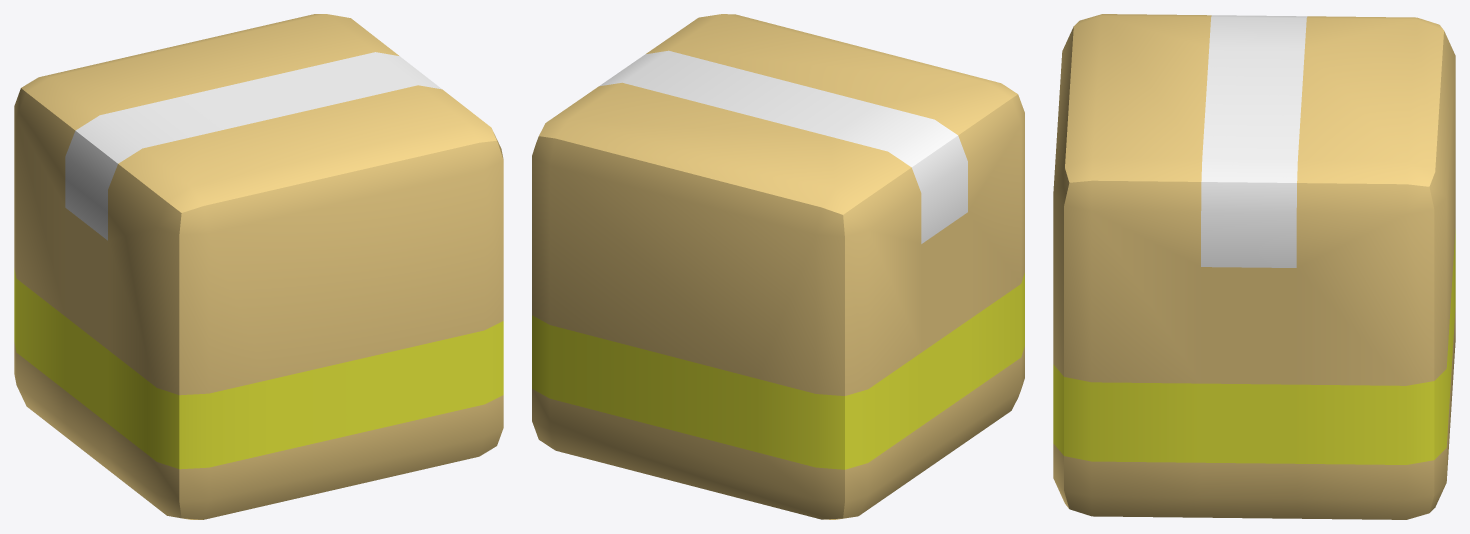
File: Props_Box_Yellow_01.fbx
The picture shows the model from 3 angles, left to right: view 1: azimuth 30°, elevation 25°; view 2: azimuth 150°, elevation 25°; view 3: azimuth 270°, elevation 25°; orthographic projection. The views are drawn at different scales.
Visible parts, largest first — view 1: Props_Box_Yellow_01; view 2: Props_Box_Yellow_01; view 3: Props_Box_Yellow_01.
Boxes of the visible parts, x1,y1,x2,y2 form: Props_Box_Yellow_01: (14, 14, 503, 519); Props_Box_Yellow_01: (532, 14, 1024, 519); Props_Box_Yellow_01: (1053, 14, 1455, 519).
Size of the model in its own units: 56.84 by 52.32 by 53.48.
